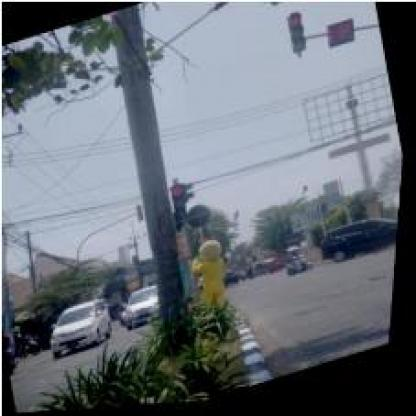red: (282, 12, 312, 58), (172, 184, 196, 226)
